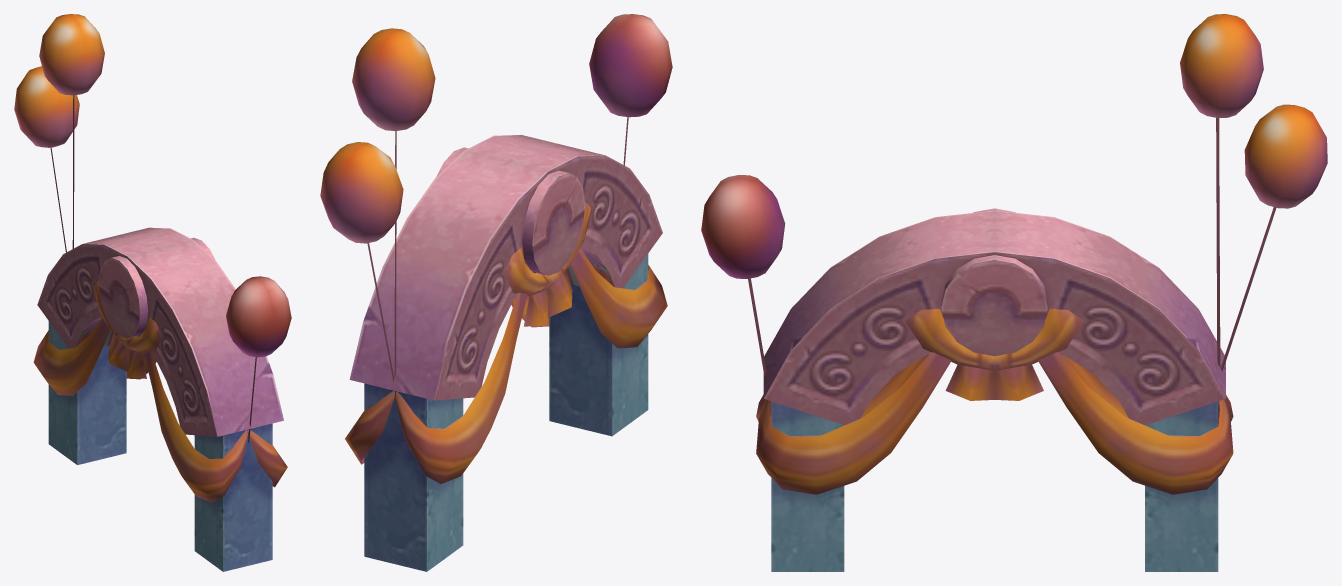
File: scenes_town_gate01.FBX
The picture shows the model from 3 angles, left to right: view 1: azimuth 30°, elevation 25°; view 2: azimuth 150°, elevation 25°; view 3: azimuth 270°, elevation 25°; orthographic projection. The views are drawn at different scales.
Visible parts, largest first — view 1: scenes_town_gate01; view 2: scenes_town_gate01; view 3: scenes_town_gate01.
Part boxes in pixels (<box>): scenes_town_gate01: <box>14,14,291,571</box>; scenes_town_gate01: <box>320,14,672,571</box>; scenes_town_gate01: <box>701,14,1327,571</box>.
Size of the model in its own units: 106 by 449 by 472.
